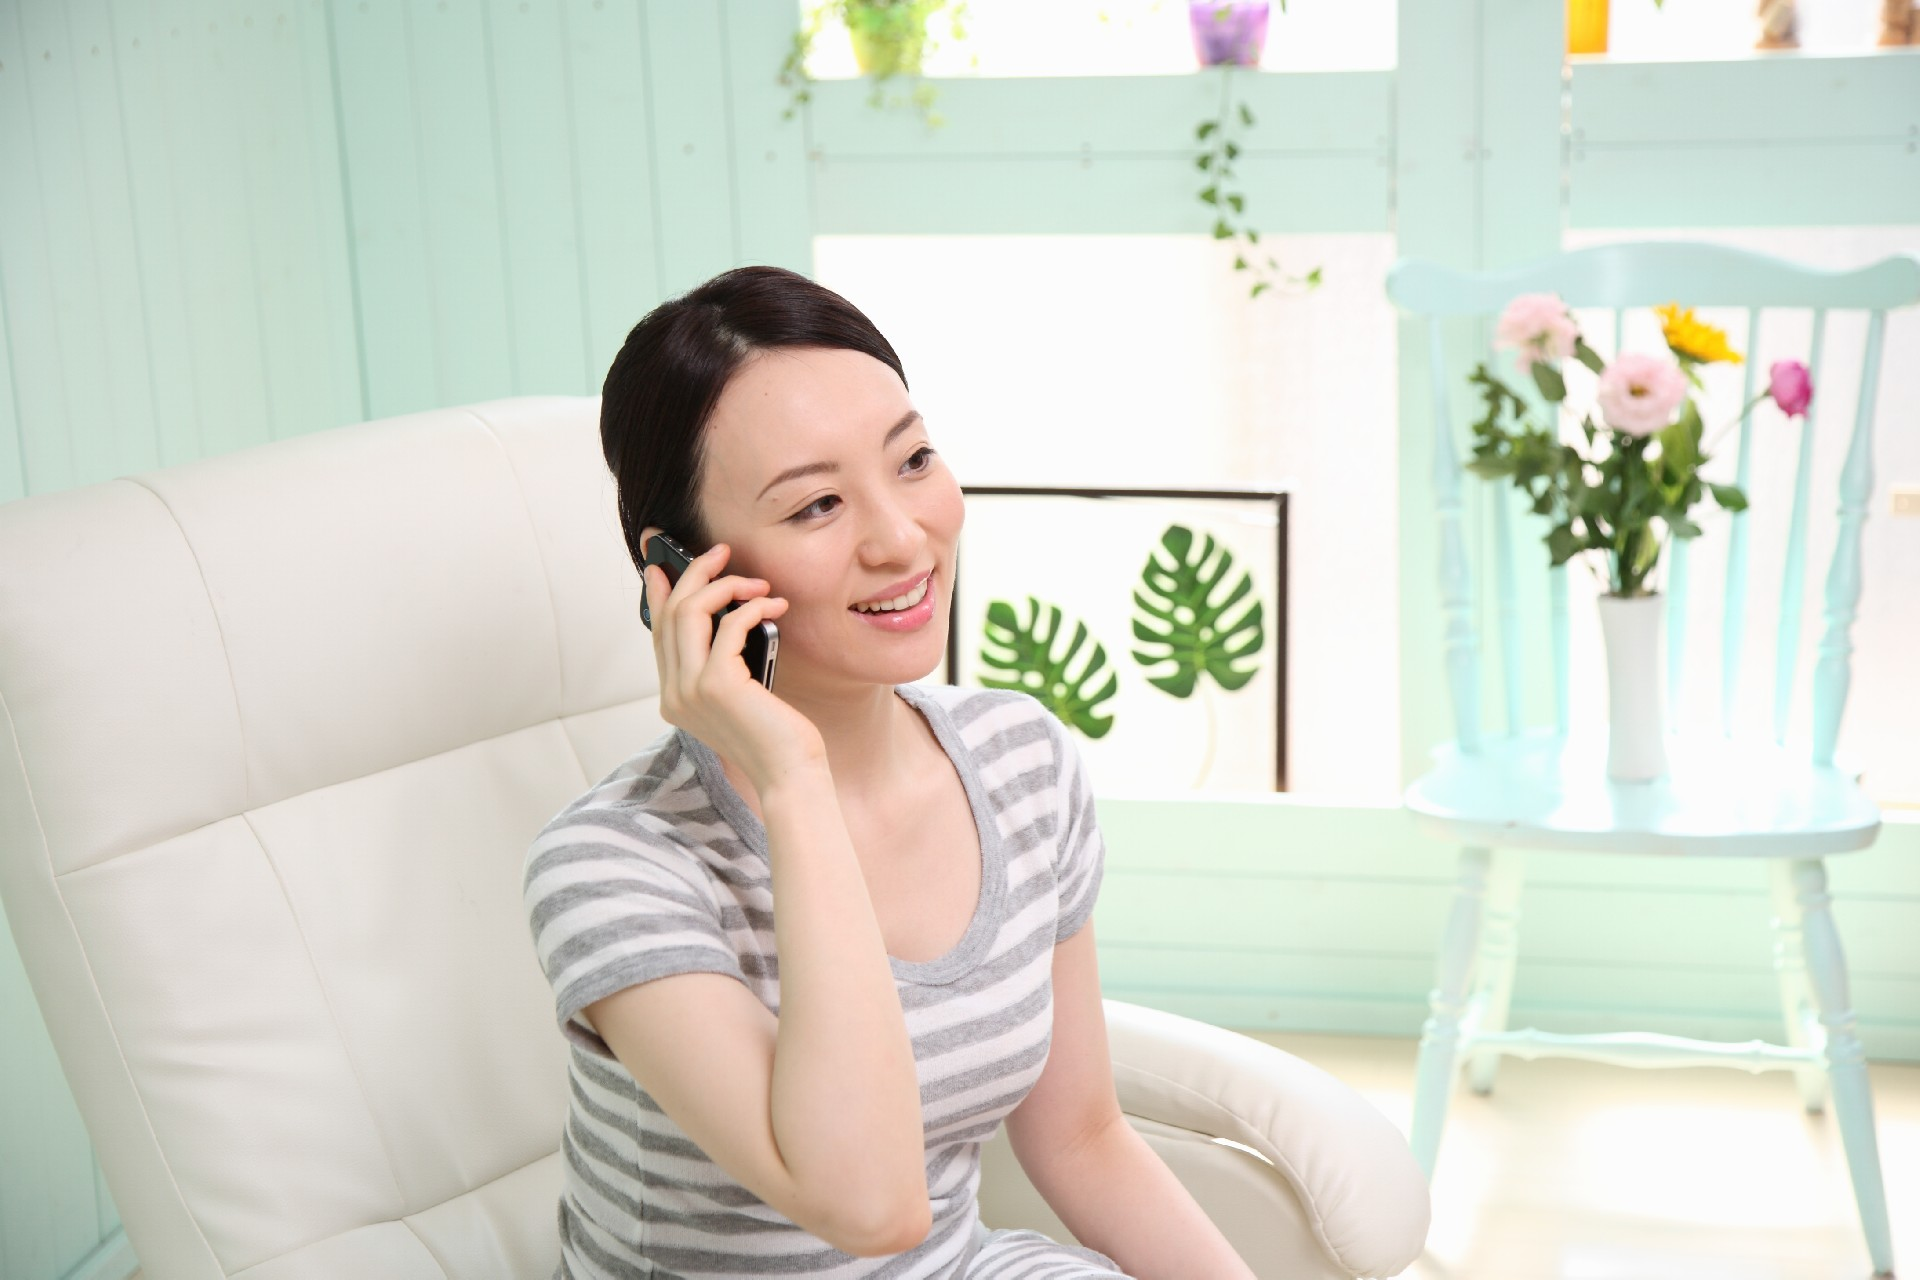phone: (633, 513, 793, 719)
talk: (614, 404, 969, 784)
